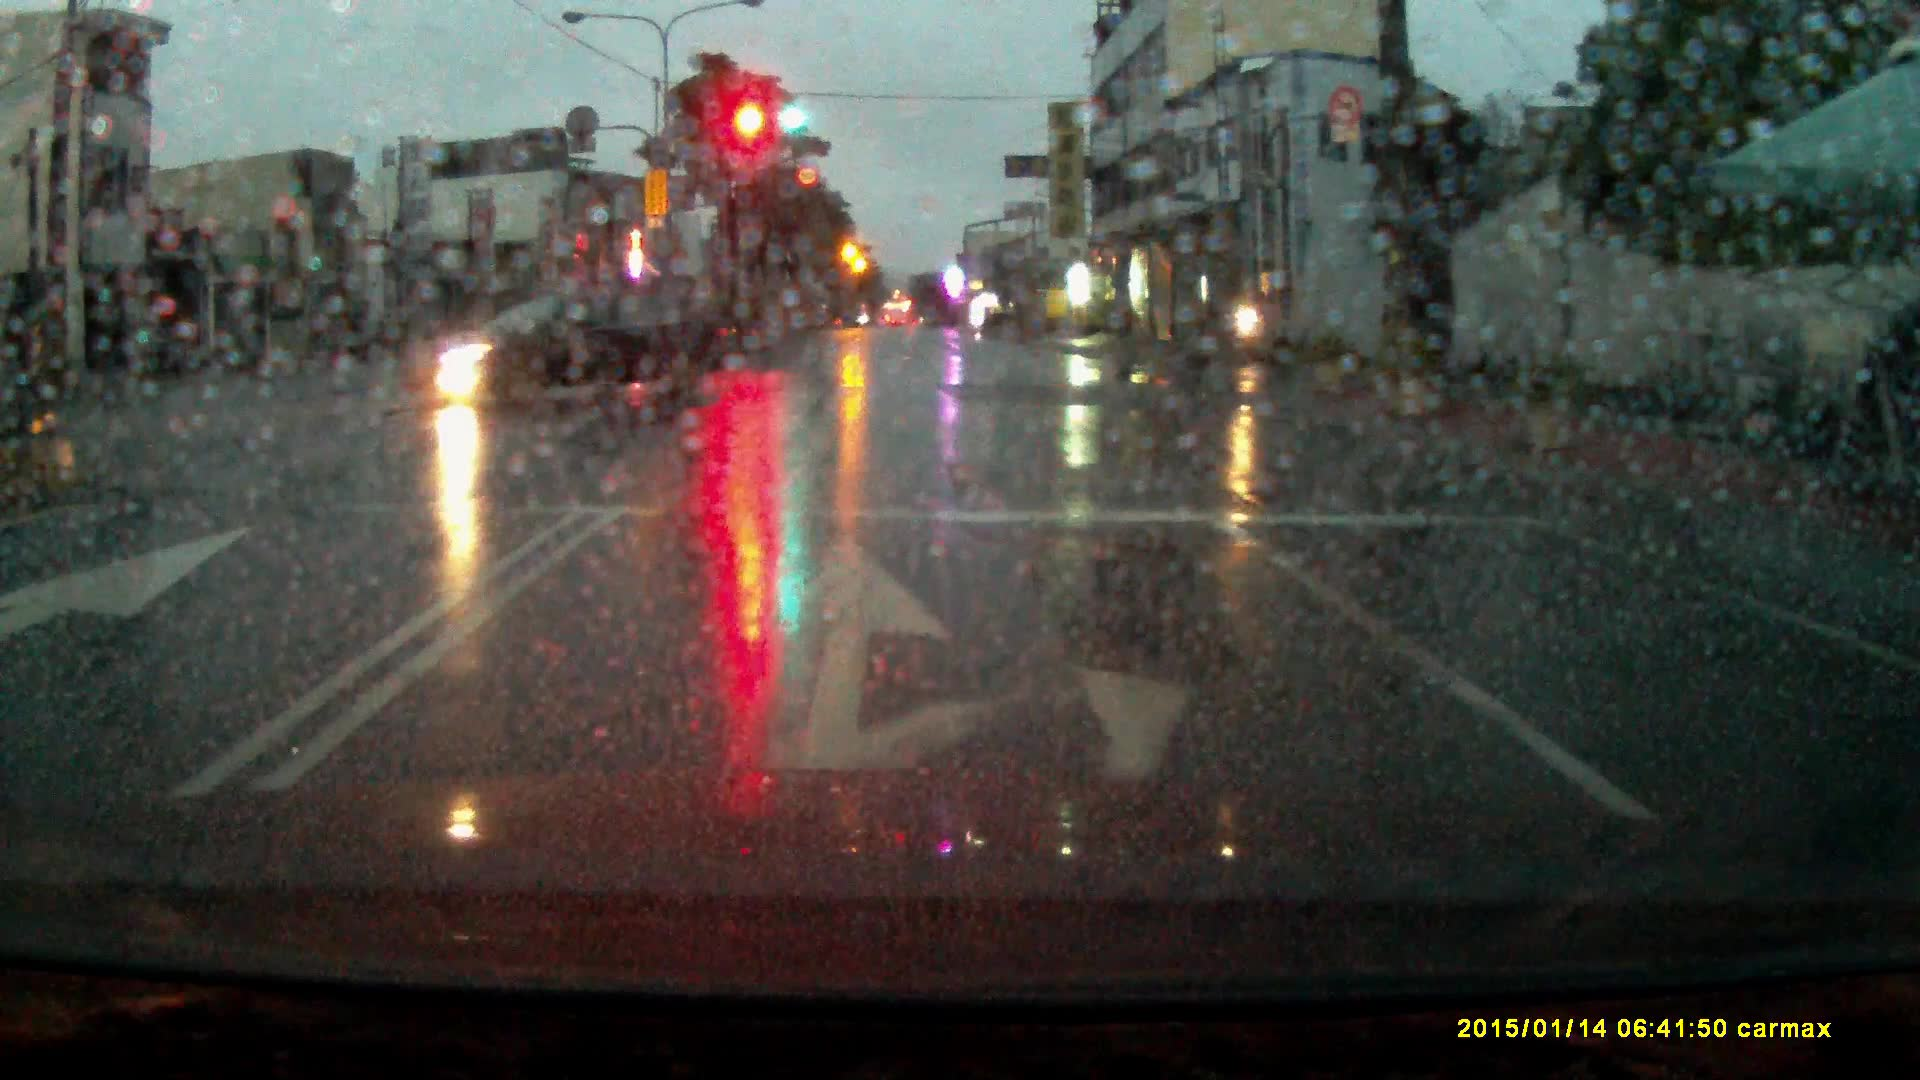rider: (1215, 277, 1297, 373)
vehicle: (398, 289, 728, 405)
